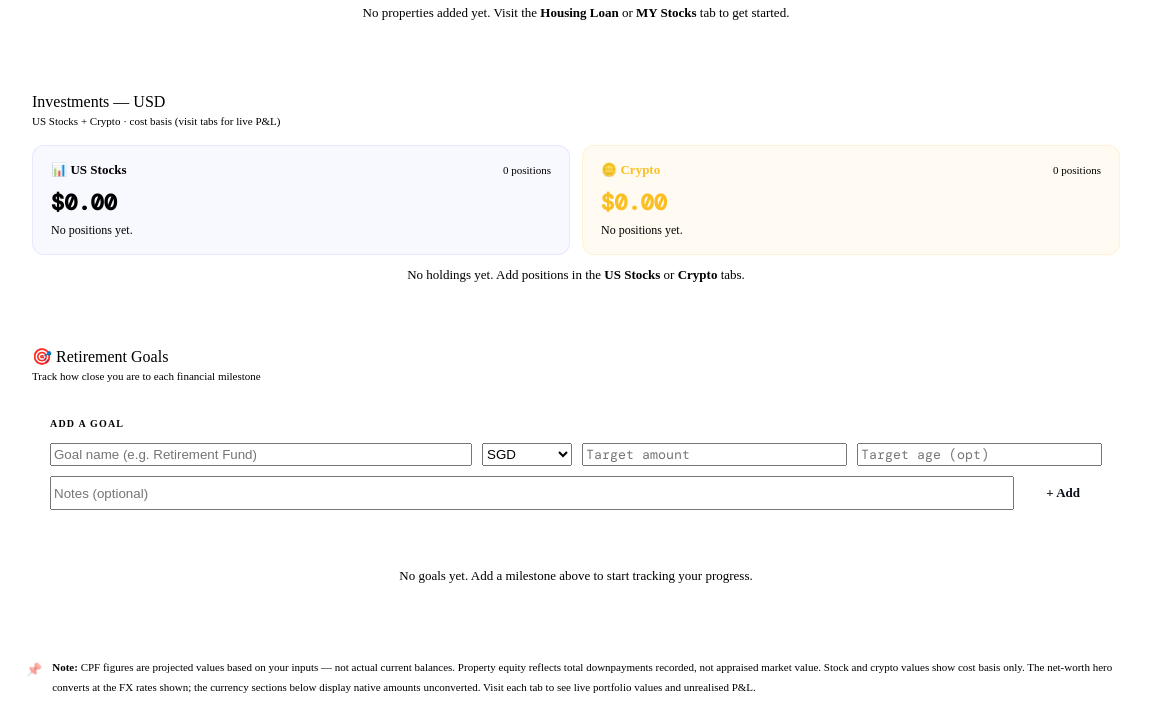
it: SummaryTab › deletes a goal via its remove button
(page scrolled)
In the field with placeholder "Goal name (e.g. Retirement Fund)": (261, 455) [50,443,472,466], type "Temp"
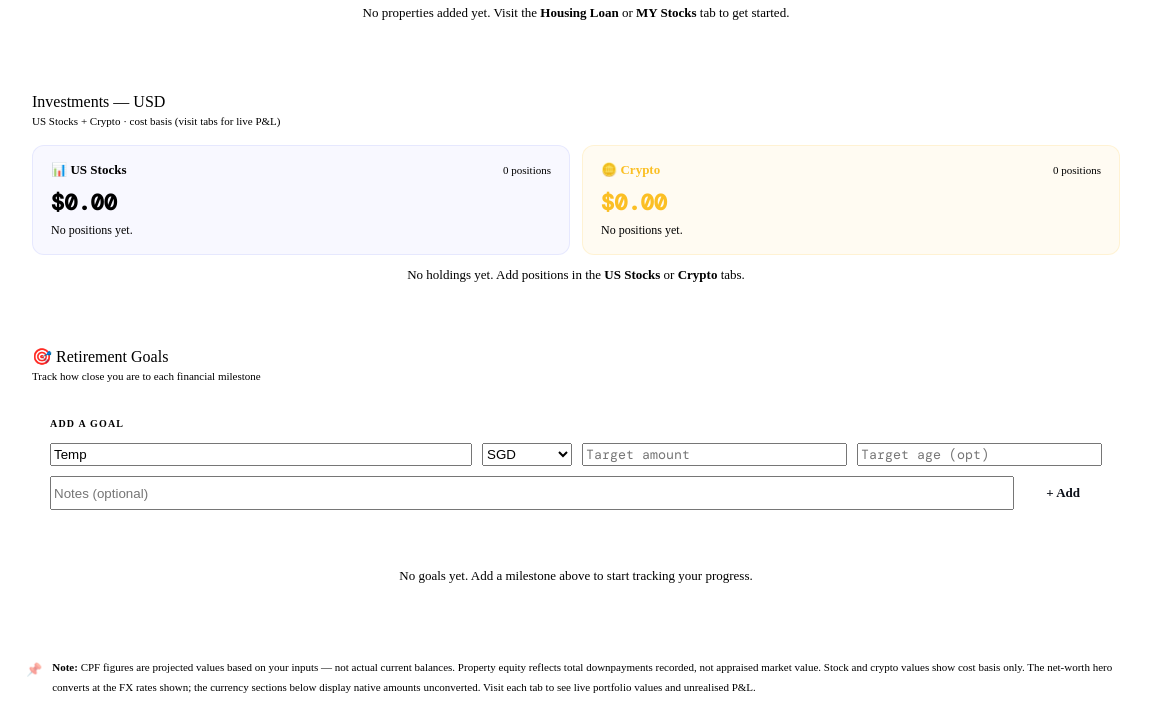
In the field with placeholder "Target amount": (714, 455) [582,443,847,466], type "1"
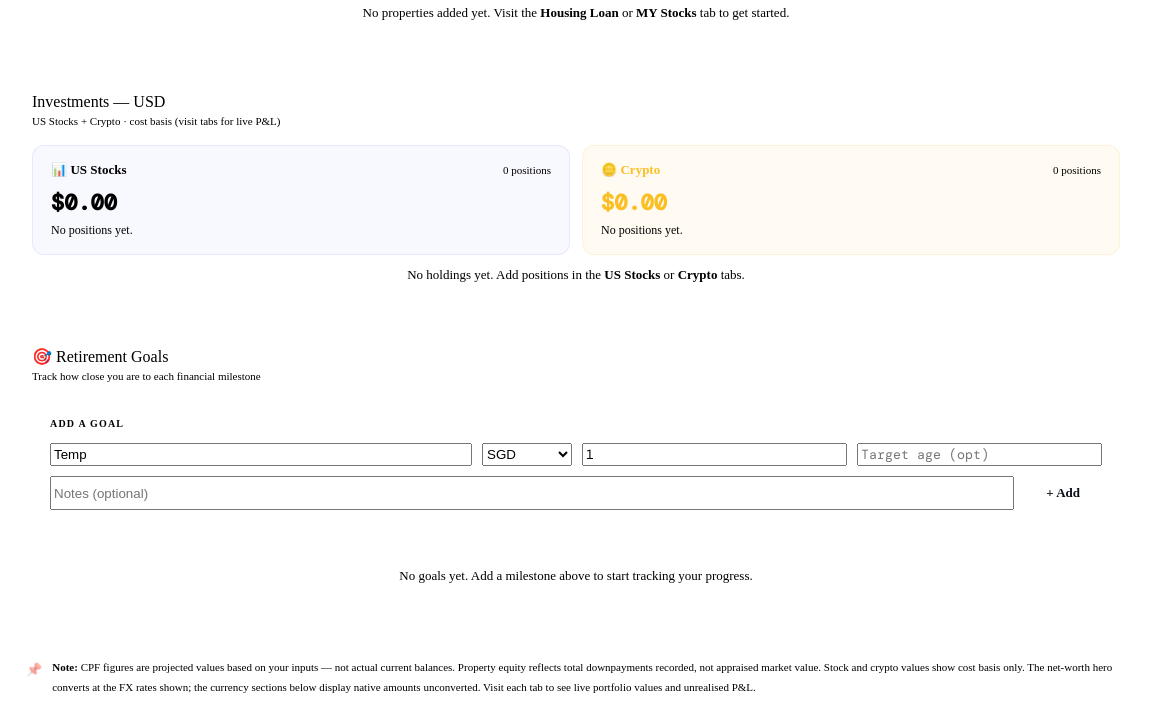
Click the button "+ Add": (1063, 493) [1024,476,1102,510]
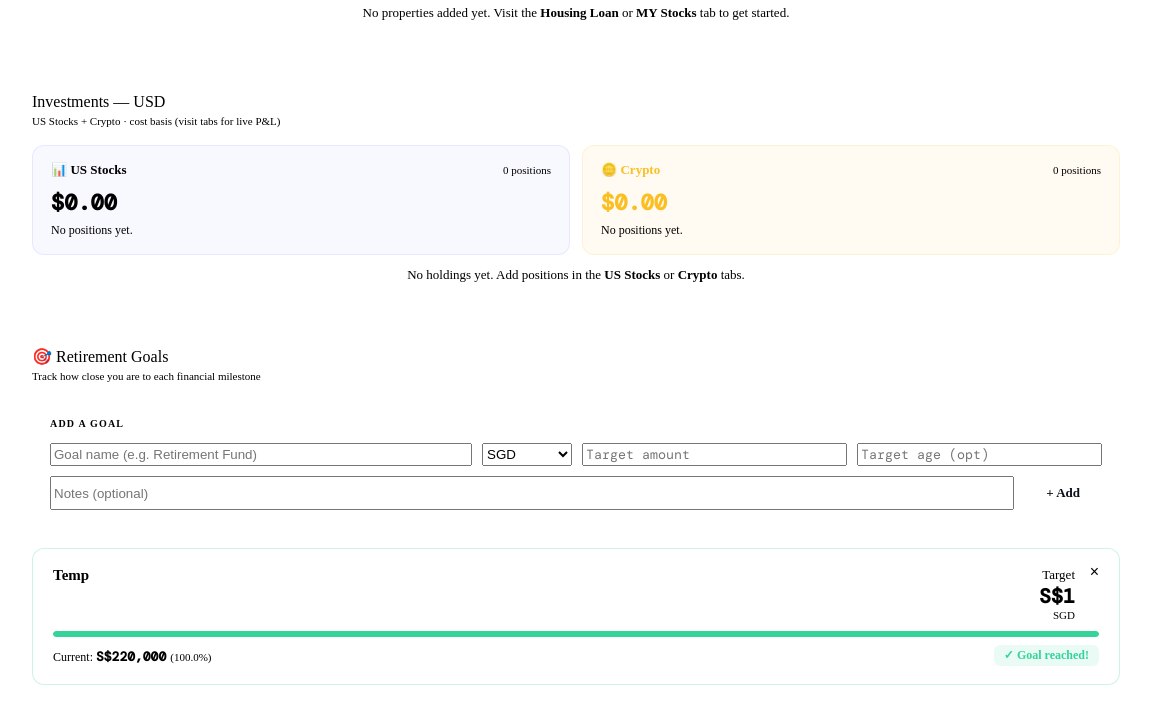
Click the button titled "Remove goal": (1094, 572) [1084,563,1105,581]
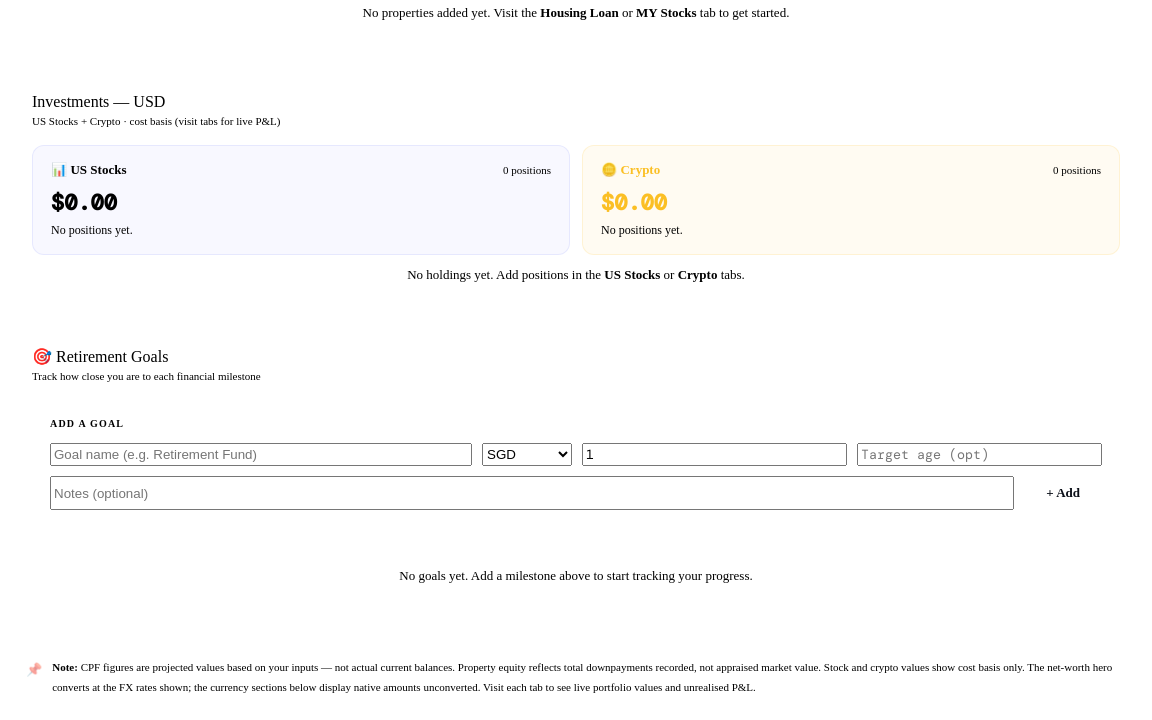
Check: the text "Temp" is gone
